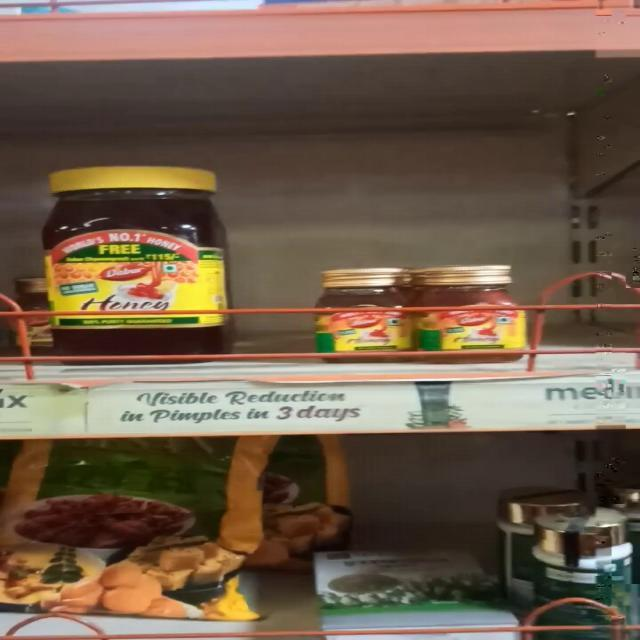Dabur Honey: (47, 168, 229, 352), (418, 266, 526, 354), (320, 268, 410, 352)
